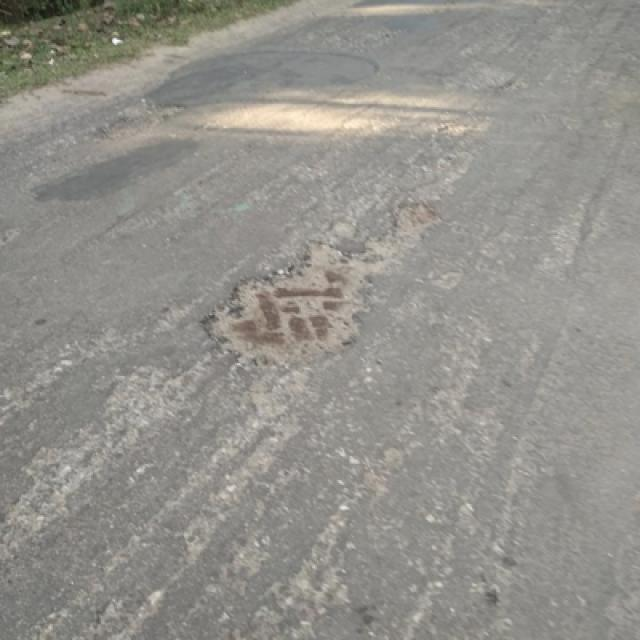Pothole: (192, 240, 381, 376), (93, 101, 189, 142), (392, 200, 442, 245)
